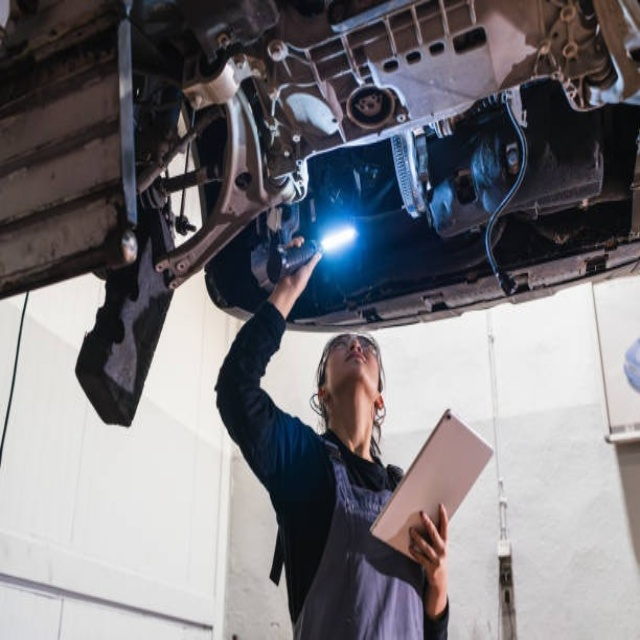Gafas: (320, 333, 381, 383)
Sin_guantes: (407, 499, 454, 580), (275, 229, 319, 295)
Sin_mascara: (339, 347, 369, 375)
